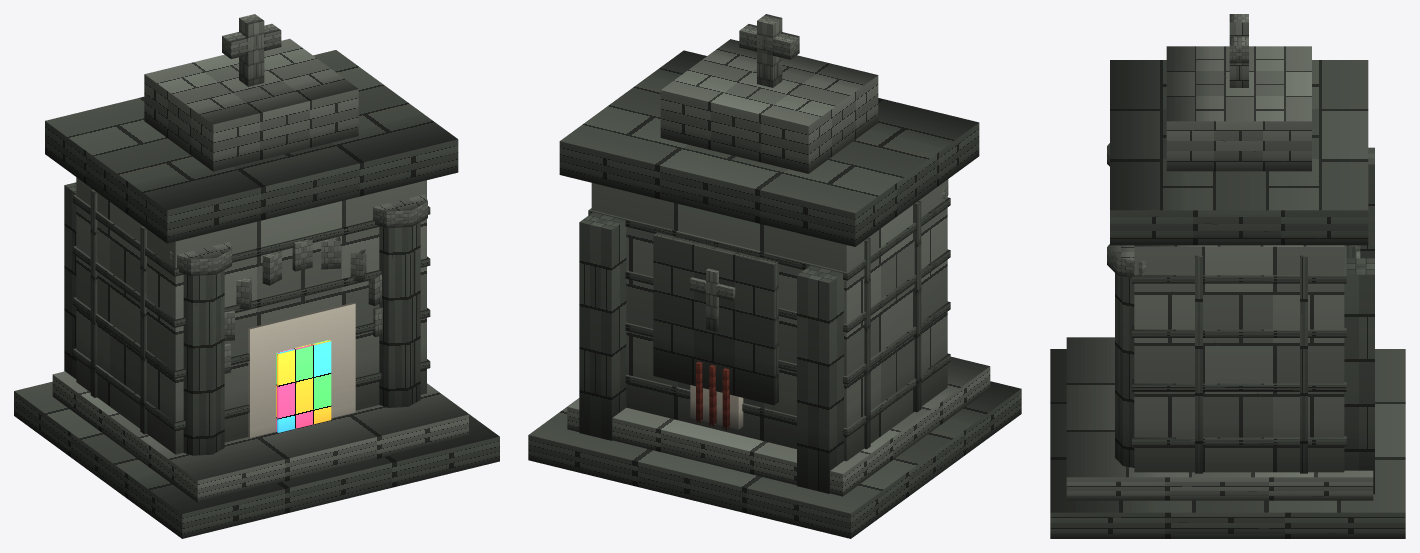
File: crypt_entrance.gltf
The picture shows the model from 3 angles, left to right: view 1: azimuth 30°, elevation 25°; view 2: azimuth 150°, elevation 25°; view 3: azimuth 270°, elevation 25°; orthographic projection. The views are drawn at different scales.
Parts seen in each view (by area): view 1: crypt_entrance; view 2: crypt_entrance; view 3: crypt_entrance.
Part boxes in pixels (box(x1,y1,x2,y2)): crypt_entrance: box(14, 14, 499, 538); crypt_entrance: box(528, 14, 1021, 538); crypt_entrance: box(1050, 14, 1405, 538).
Bounding box in the file's own units: 2.4 × 3 × 2.2.
1 material, 1 textured.
